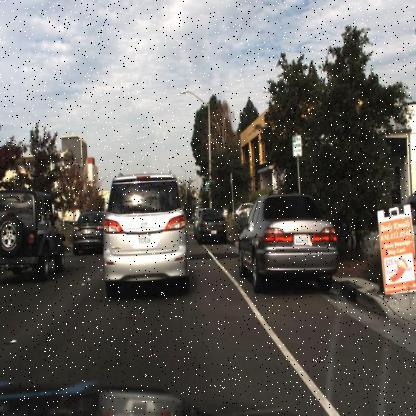car: (228, 182, 353, 306), (96, 166, 197, 308), (0, 170, 72, 299), (0, 182, 69, 279), (70, 196, 109, 270), (195, 207, 227, 250)
